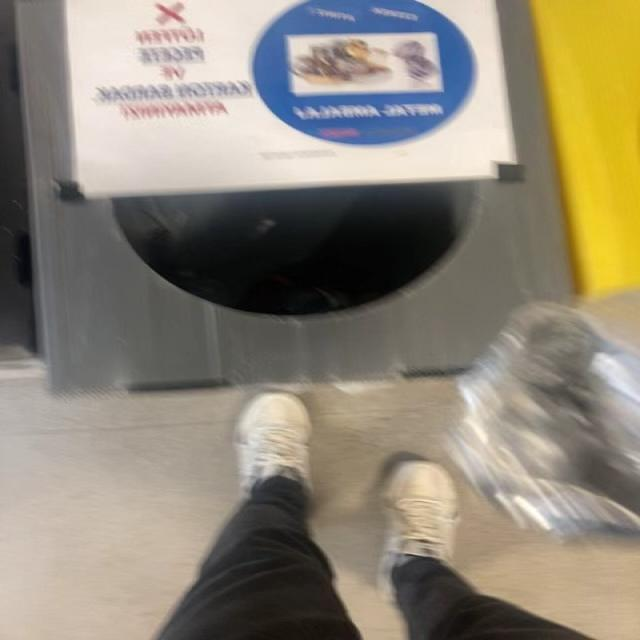Bin: (15, 0, 571, 390)
Metal: (449, 303, 639, 538)
